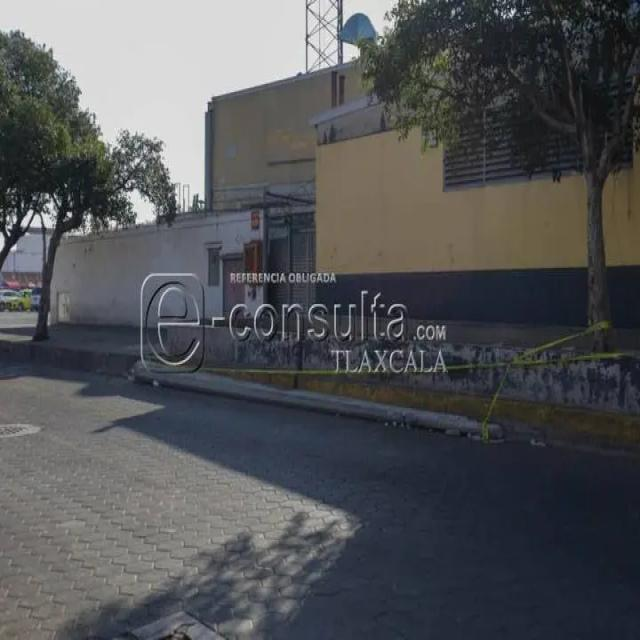Inclined Pole: (129, 352, 507, 442)
